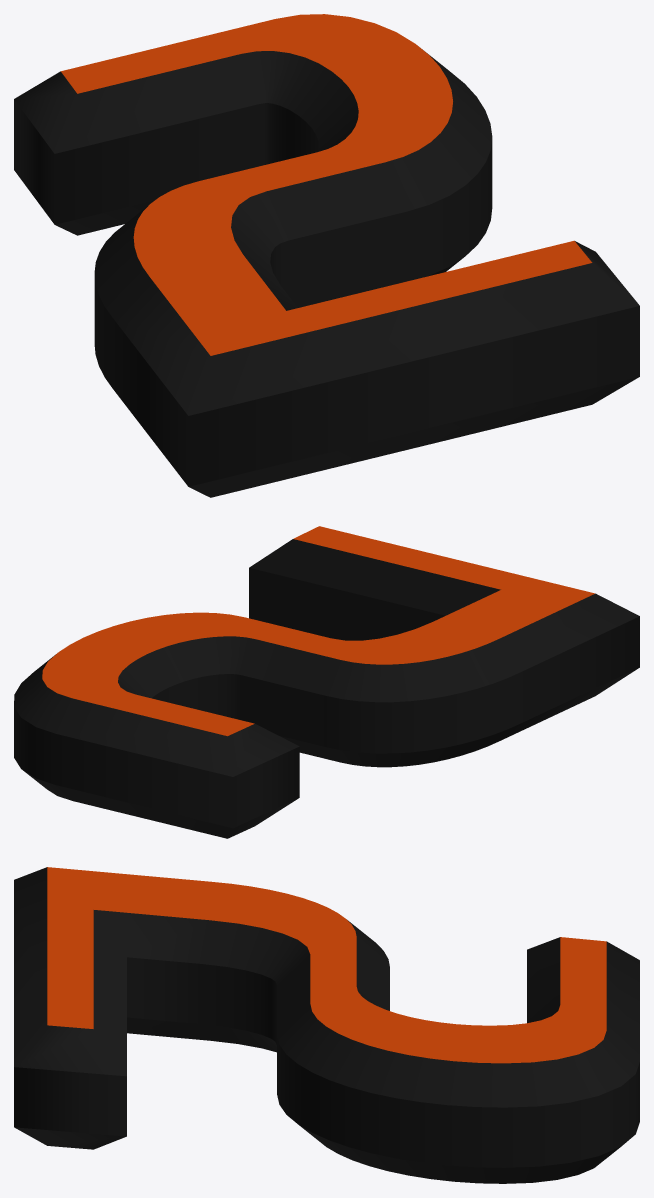
The picture shows the model from 3 angles, top to bottom: view 1: azimuth 30°, elevation 25°; view 2: azimuth 150°, elevation 25°; view 3: azimuth 270°, elevation 25°; orthographic projection. The views are drawn at different scales.
Parts seen in each view (by area): view 1: Text; view 2: Text; view 3: Text.
Part boxes in pixels (x1,y1,x2,y2): Text: [14, 14, 639, 497]; Text: [14, 526, 639, 838]; Text: [14, 867, 639, 1183].
Size of the model in its own units: 0.6486 by 0.16 by 0.7533.
